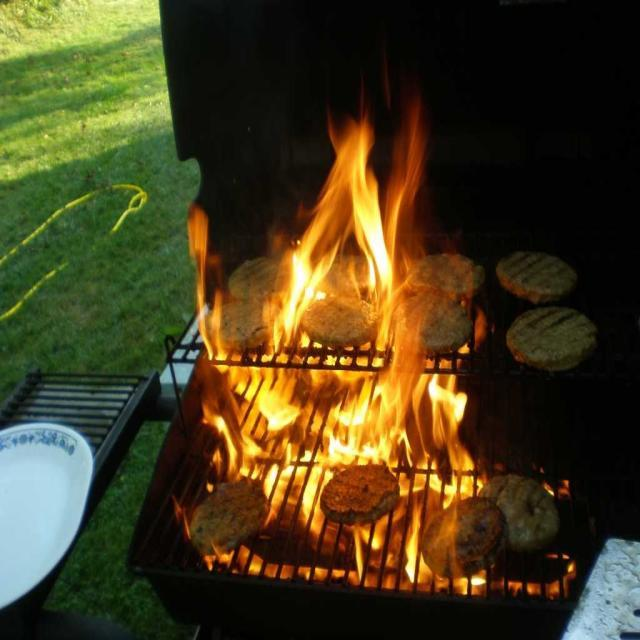Fire: (256, 375, 402, 457), (340, 150, 371, 238), (294, 250, 315, 296)
